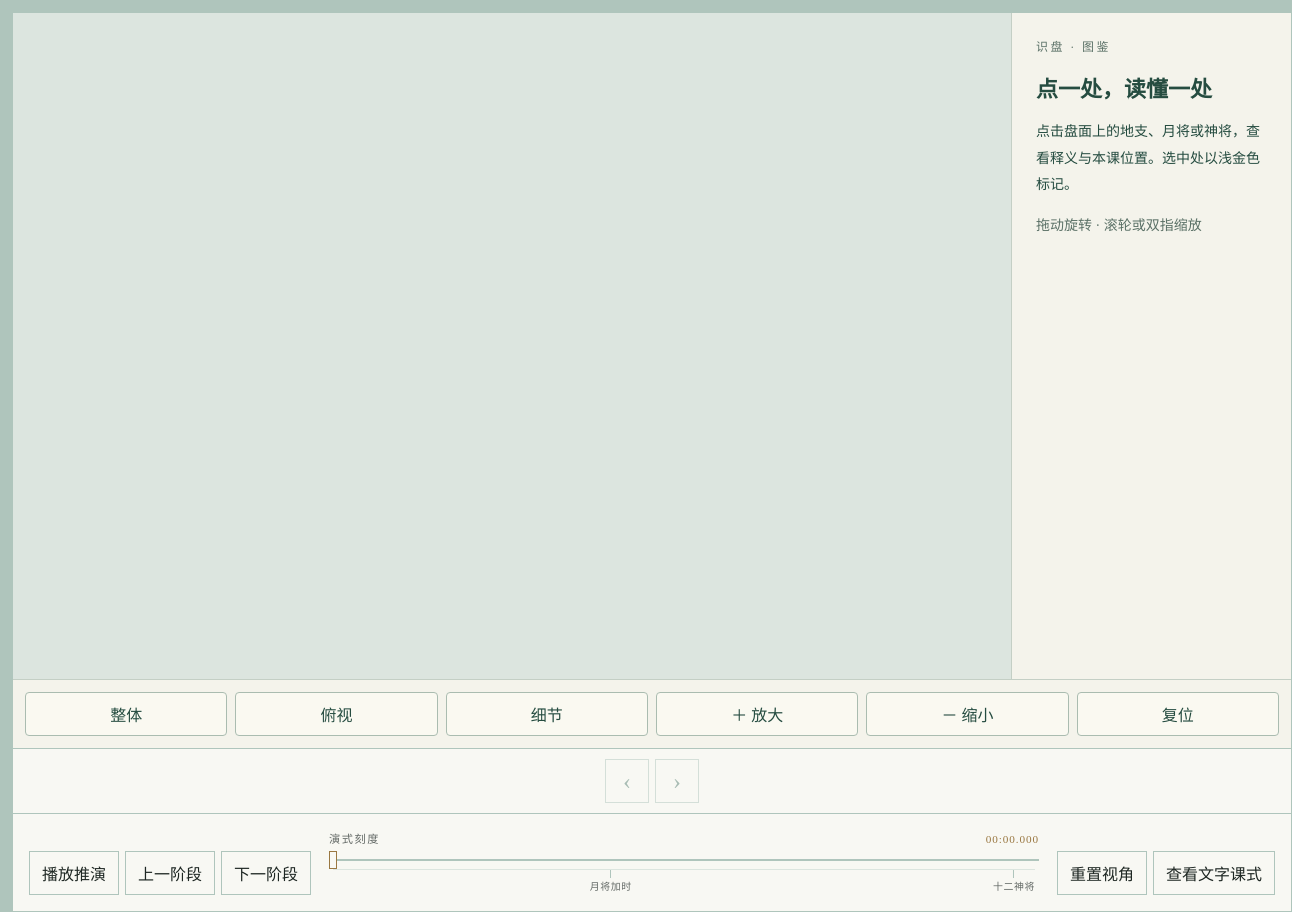
Test: ArtifactExperience › clamps playback at the exact duration and returns to the play label
This screenshot has width=1292, height=912.
Check: the slider named "推演时间轴" is shown, box top-left (329, 851), bottom-right (1039, 869)
Click the button "播放推演".
click(74, 873)  # box top-left (29, 851), bottom-right (119, 895)
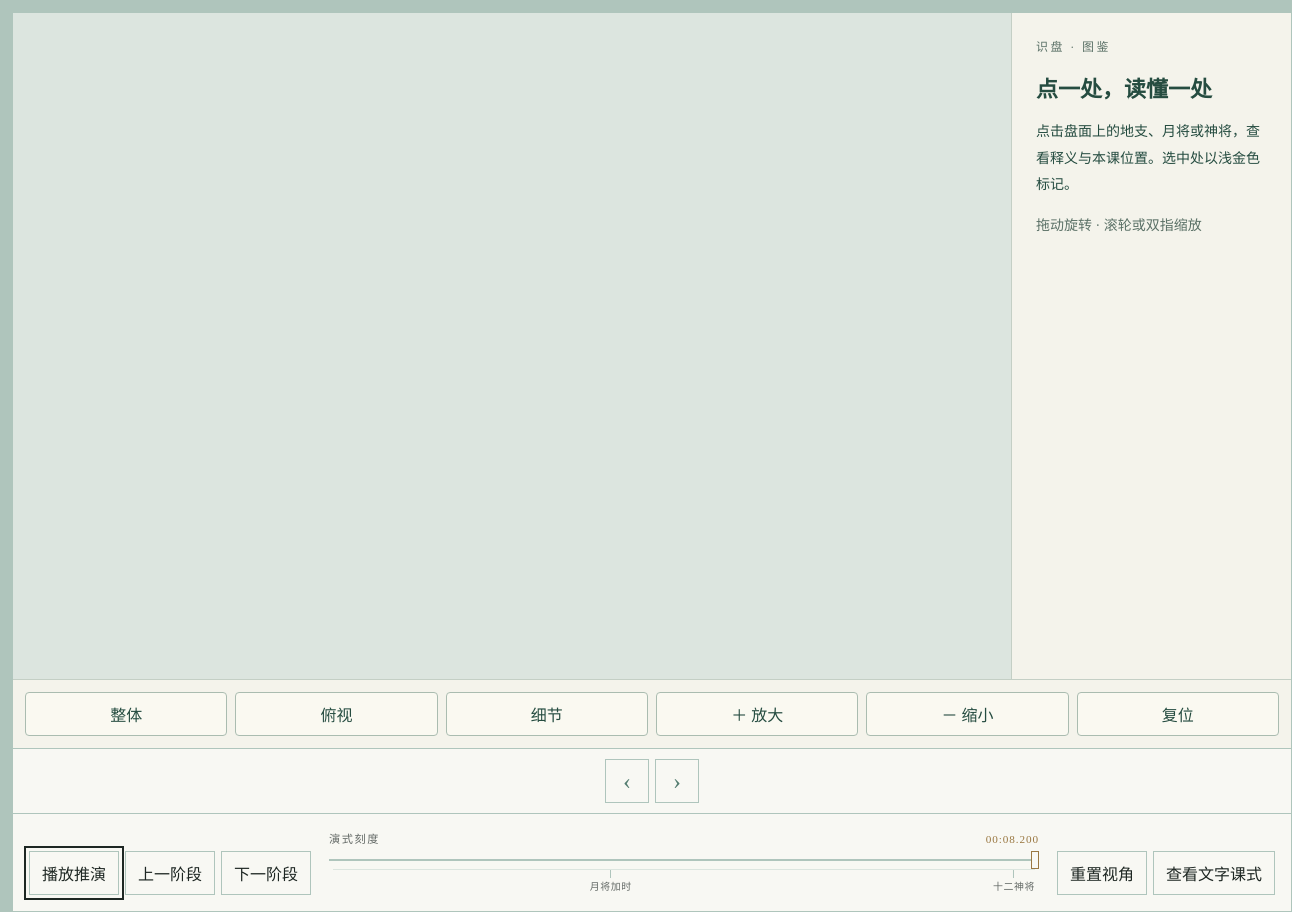
Check: the slider named "推演时间轴" holds "8200", box top-left (329, 851), bottom-right (1039, 869)
